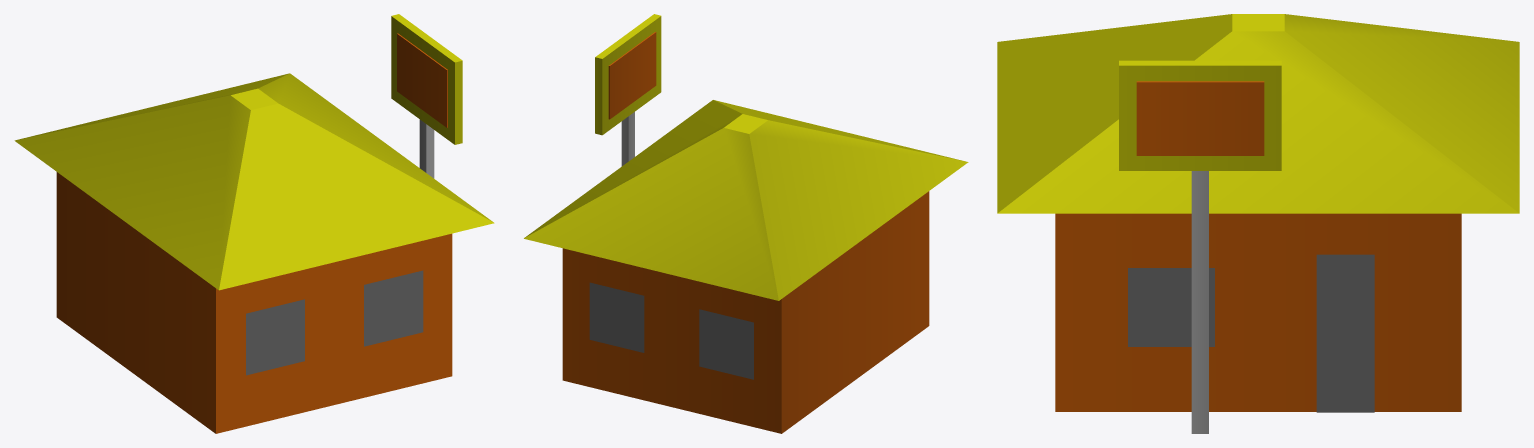
File: fast-food-high.glb
3 renders of one model, left to right at view 1: azimuth 30°, elevation 25°; view 2: azimuth 150°, elevation 25°; view 3: azimuth 270°, elevation 25°, orthographic. The views are drawn at different scales.
Parts seen in each view (by area): view 1: frame-00; view 2: frame-00; view 3: frame-00.
Part boxes in pixels (left/top/right/bottom): frame-00: left=14, top=14, right=494, bottom=433; frame-00: left=524, top=14, right=968, bottom=433; frame-00: left=997, top=14, right=1519, bottom=433.
Size of what is drawn, in the model's own units: 0.743 by 0.7 by 0.9.
